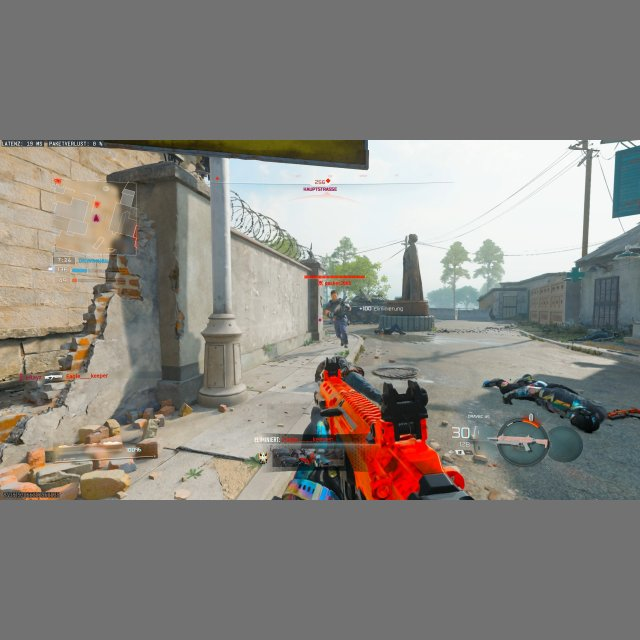head: (569, 403, 605, 433), (330, 290, 339, 300)
player: (323, 291, 350, 350)
